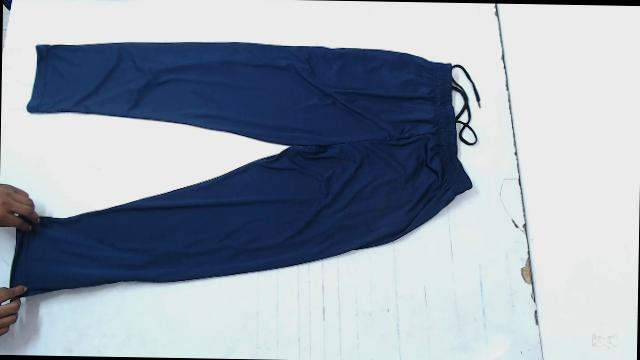new-garment: (12, 42, 472, 293)
